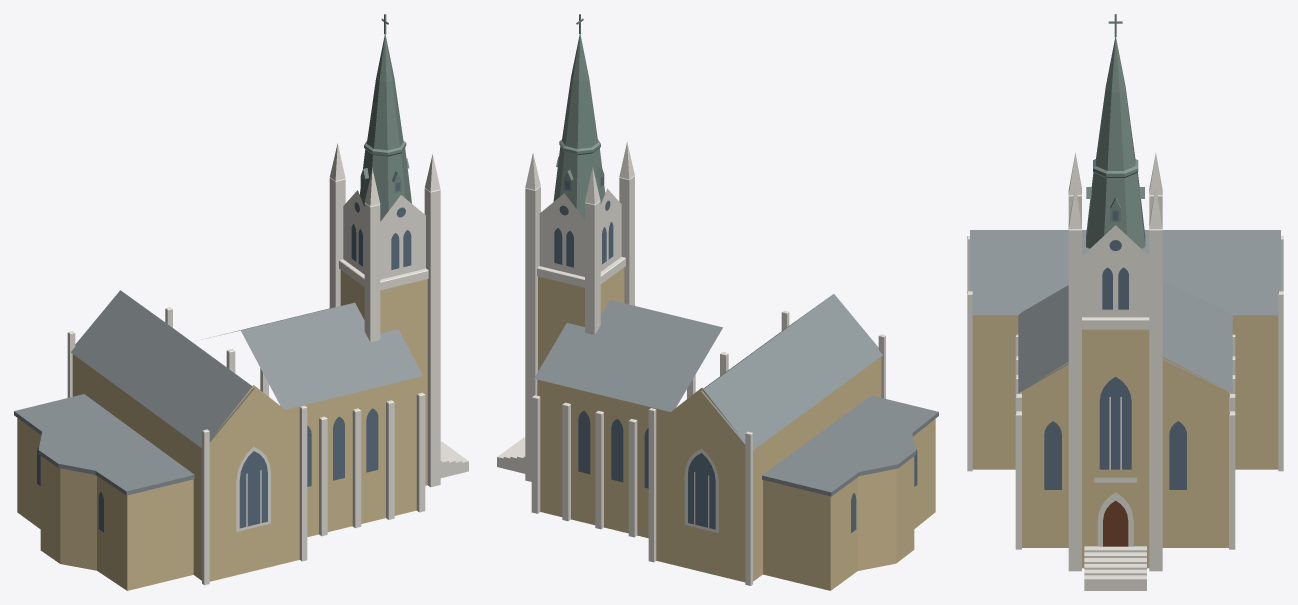
File: sat-ollu-sacred-heart-chapel.glb
The picture shows the model from 3 angles, left to right: view 1: azimuth 30°, elevation 25°; view 2: azimuth 150°, elevation 25°; view 3: azimuth 270°, elevation 25°; orthographic projection. The views are drawn at different scales.
Parts seen in each view (by area): view 1: Sacred Heart Conventual Chapel; view 2: Sacred Heart Conventual Chapel; view 3: Sacred Heart Conventual Chapel.
Part boxes in pixels (left/top/right/bottom): Sacred Heart Conventual Chapel: left=14, top=14, right=468, bottom=590; Sacred Heart Conventual Chapel: left=497, top=14, right=938, bottom=590; Sacred Heart Conventual Chapel: left=967, top=14, right=1283, bottom=590.
Size of the model in its own units: 60.4 by 66.3 by 35.4.
